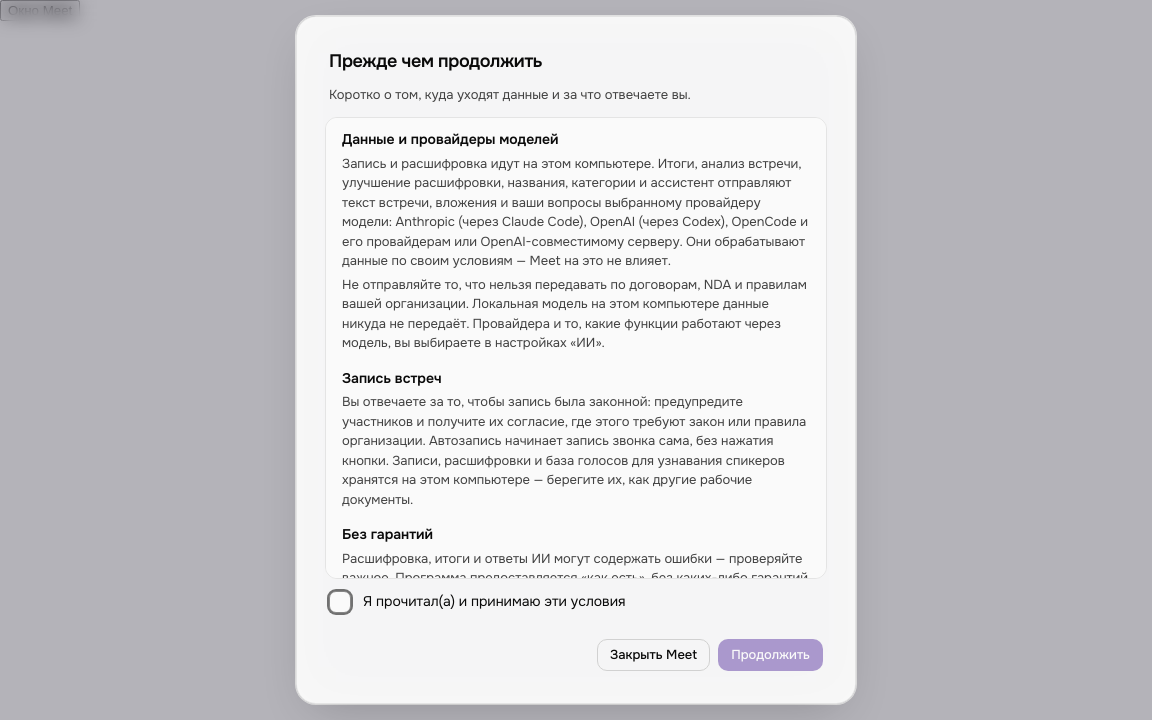
Test case: фокус сразу на флажке; «Продолжить» недоступна, пока флажок не отмечен
The image size is (1152, 720).
Expected: the button "Продолжить" is disabled, [718, 639, 823, 671]
Click the checkbox labelled "Я прочитал(а) и принимаю эти условия" at (340, 602), box [329, 591, 351, 613]
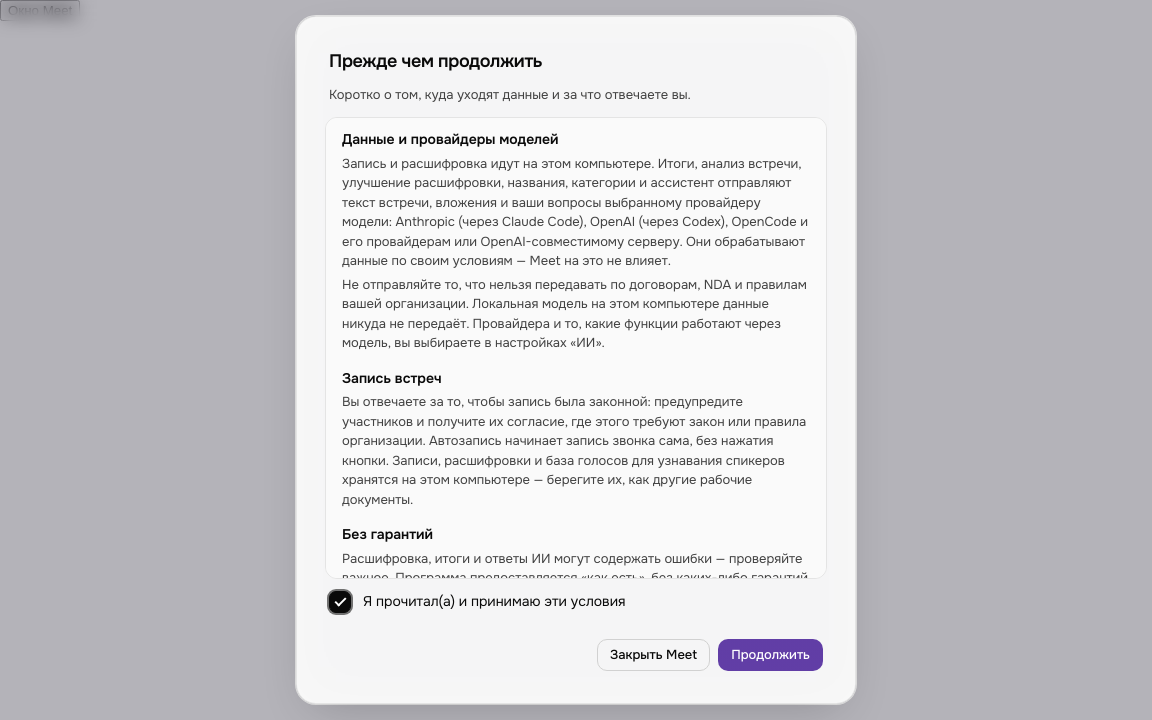
Now the button "Продолжить" is enabled, box [718, 639, 823, 671]
Click the checkbox labelled "Я прочитал(а) и принимаю эти условия" at (340, 602), box [329, 591, 351, 613]
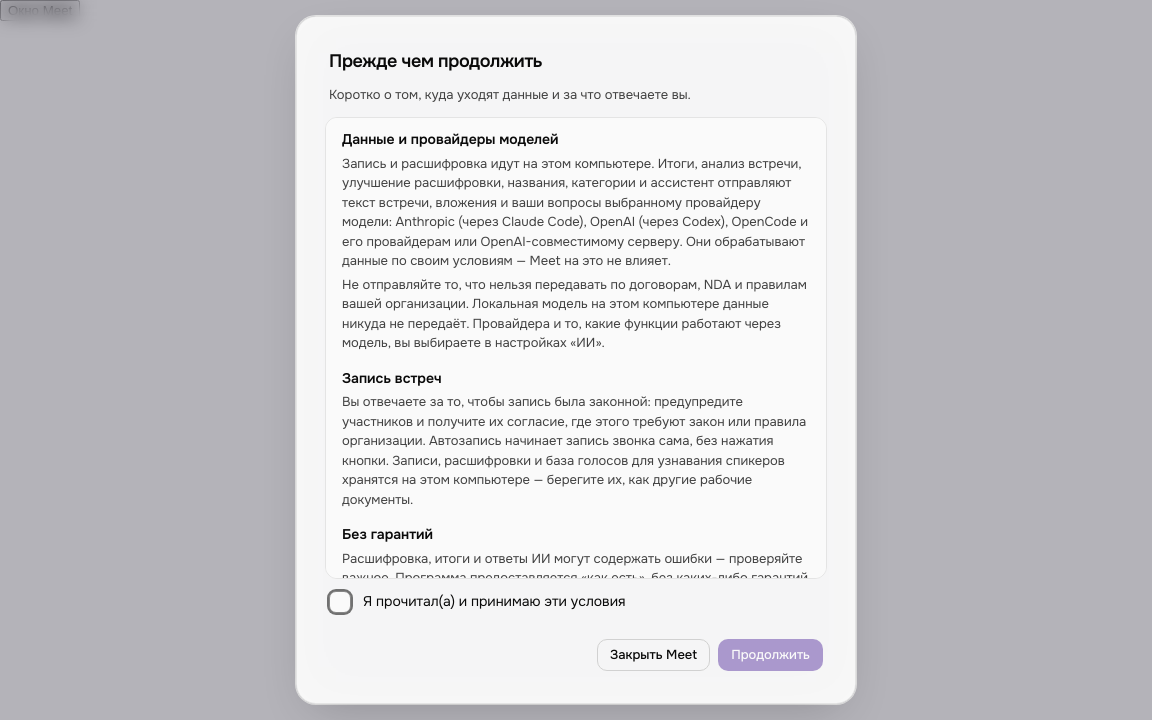
Now the button "Продолжить" is disabled, box [718, 639, 823, 671]
